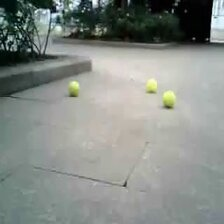tennis: (161, 90, 174, 107), (144, 79, 157, 92), (67, 81, 79, 95)
